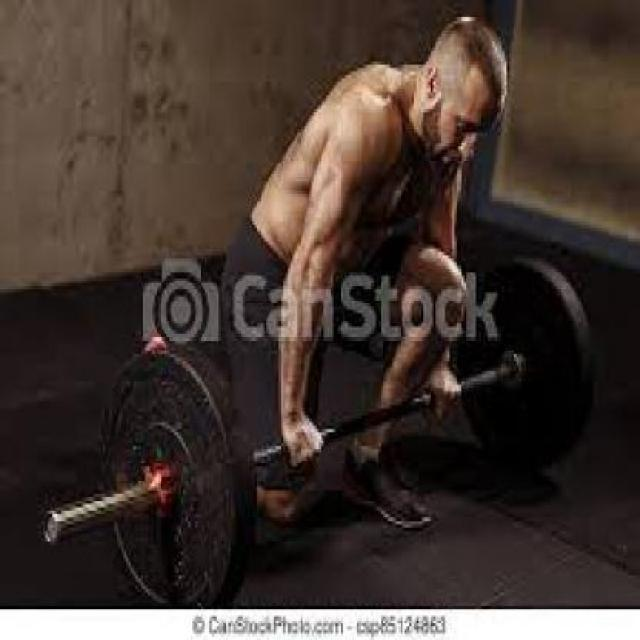barbell: (41, 348, 246, 612)
